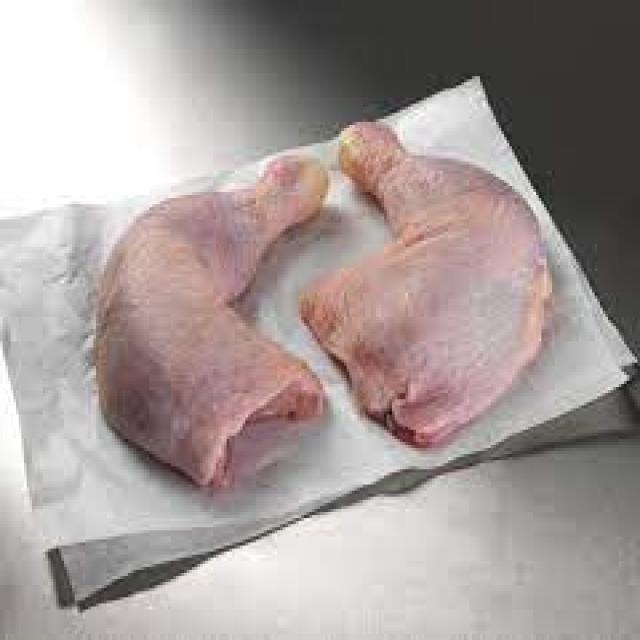chicken breast: (301, 122, 555, 446), (96, 152, 328, 488)
